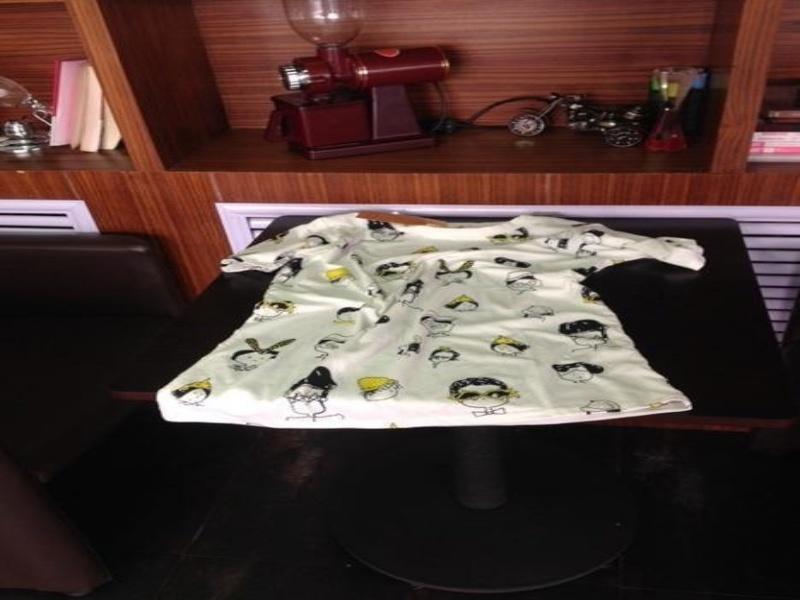short_sleeved_dress: (150, 211, 716, 434)
